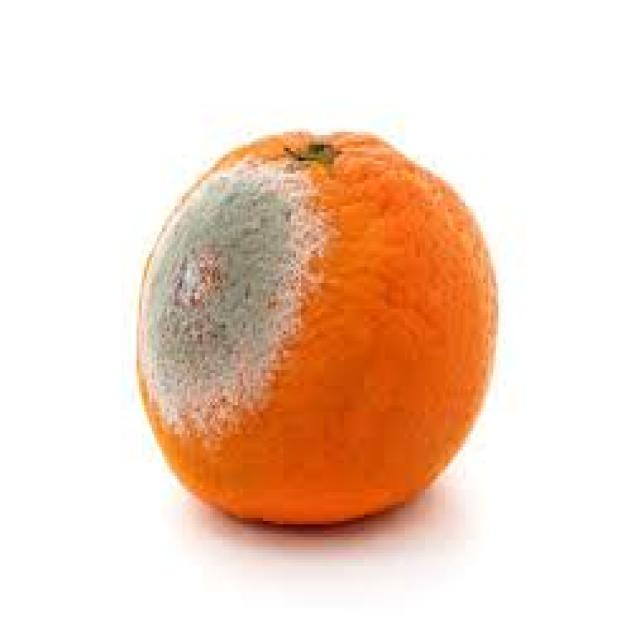Orange: (161, 155, 487, 516)
